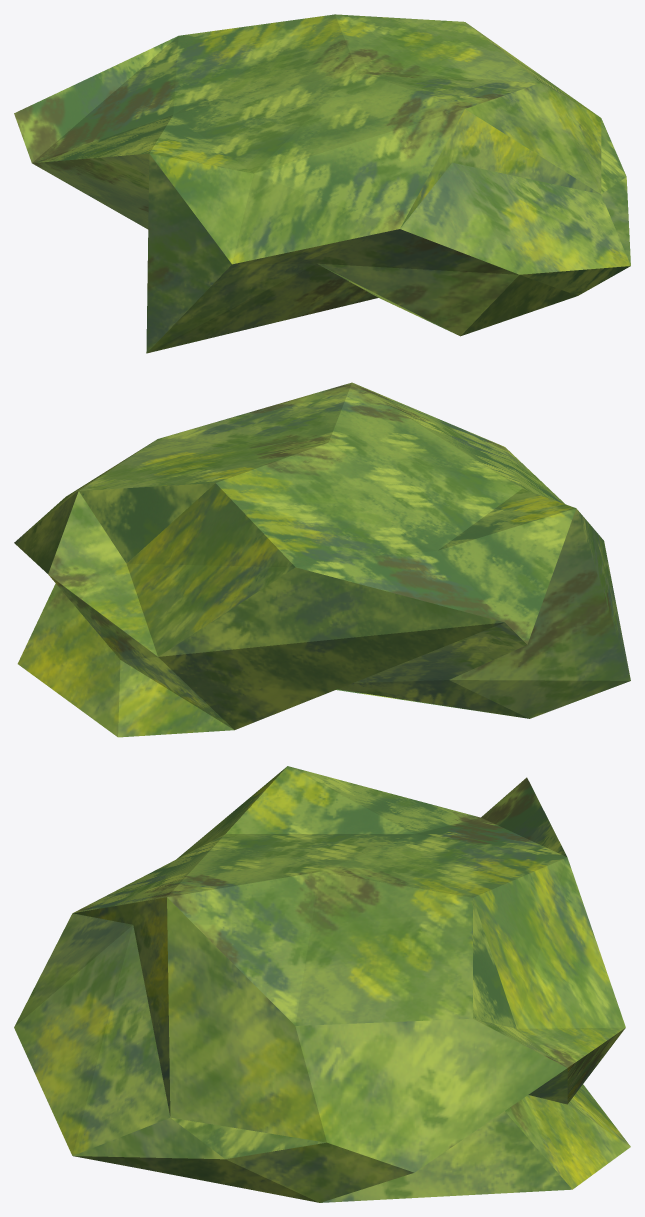
Rendered from foliage7.glb.
3 views of the same model, one above another, from view 1: azimuth 30°, elevation 25°; view 2: azimuth 150°, elevation 25°; view 3: azimuth 270°, elevation 25° (orthographic). The views are drawn at different scales.
Visible parts, largest first — view 1: foliage7; view 2: foliage7; view 3: foliage7.
Part boxes in pixels (left/top/right/bottom): foliage7: left=14, top=14, right=630, bottom=353; foliage7: left=14, top=382, right=630, bottom=737; foliage7: left=14, top=766, right=630, bottom=1202.
Size of the model in its own units: 15.03 by 6.01 by 13.21.
Materials: 1 (1 with a texture image).
